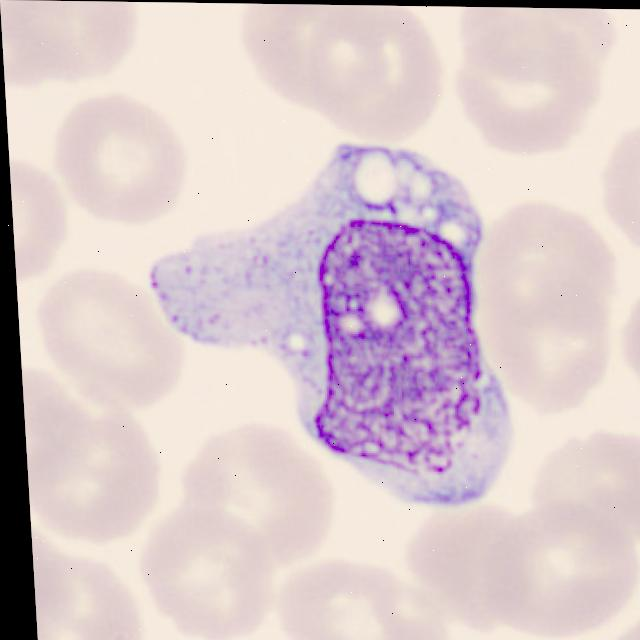monocyte: (137, 134, 514, 493)
rbc: (470, 257, 618, 428), (23, 388, 160, 551), (446, 16, 597, 158), (477, 507, 639, 636), (185, 425, 333, 565), (40, 268, 182, 408), (49, 90, 188, 225), (397, 493, 532, 631), (140, 508, 276, 638), (476, 201, 624, 315), (311, 5, 439, 134), (518, 427, 640, 561), (234, 4, 380, 112), (272, 557, 436, 640), (14, 0, 162, 84), (32, 547, 140, 640), (9, 156, 78, 289), (588, 101, 640, 269), (21, 361, 79, 493)
